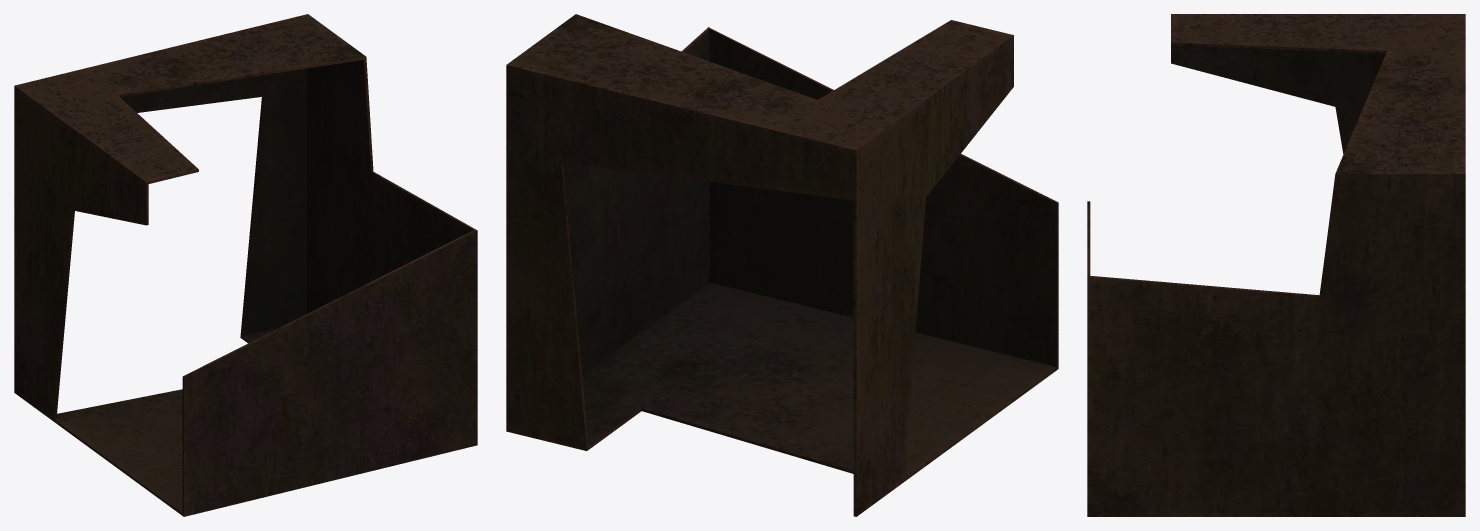
The model's file is preview.glb.
3 renders of one model, left to right at view 1: azimuth 30°, elevation 25°; view 2: azimuth 150°, elevation 25°; view 3: azimuth 270°, elevation 25°, orthographic. The views are drawn at different scales.
Parts seen in each view (by area): view 1: Mesh1 Model_0; view 2: Mesh1 Model_0; view 3: Mesh1 Model_0.
Part boxes in pixels (bbox=[...]): Mesh1 Model_0: bbox=[14, 14, 477, 516]; Mesh1 Model_0: bbox=[506, 14, 1058, 516]; Mesh1 Model_0: bbox=[1087, 14, 1465, 516].
Bounding box in the file's own units: 5 × 5 × 5.
1 material, 1 textured.
